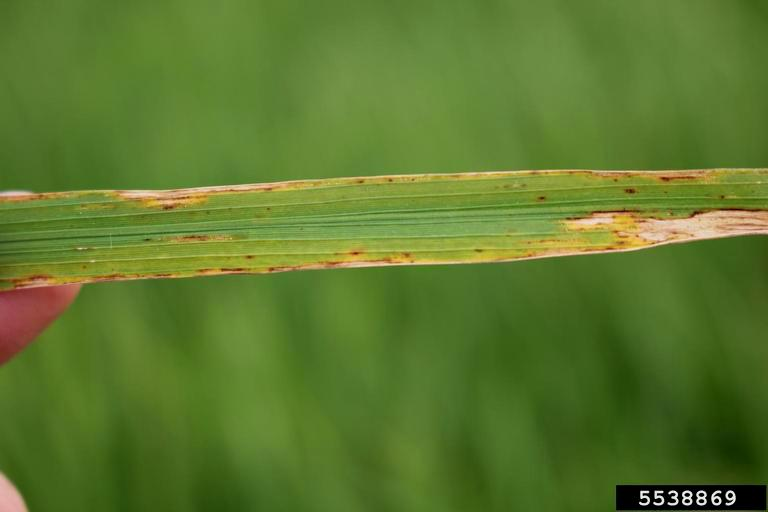2 BacterialBlight: (1, 161, 758, 255)
